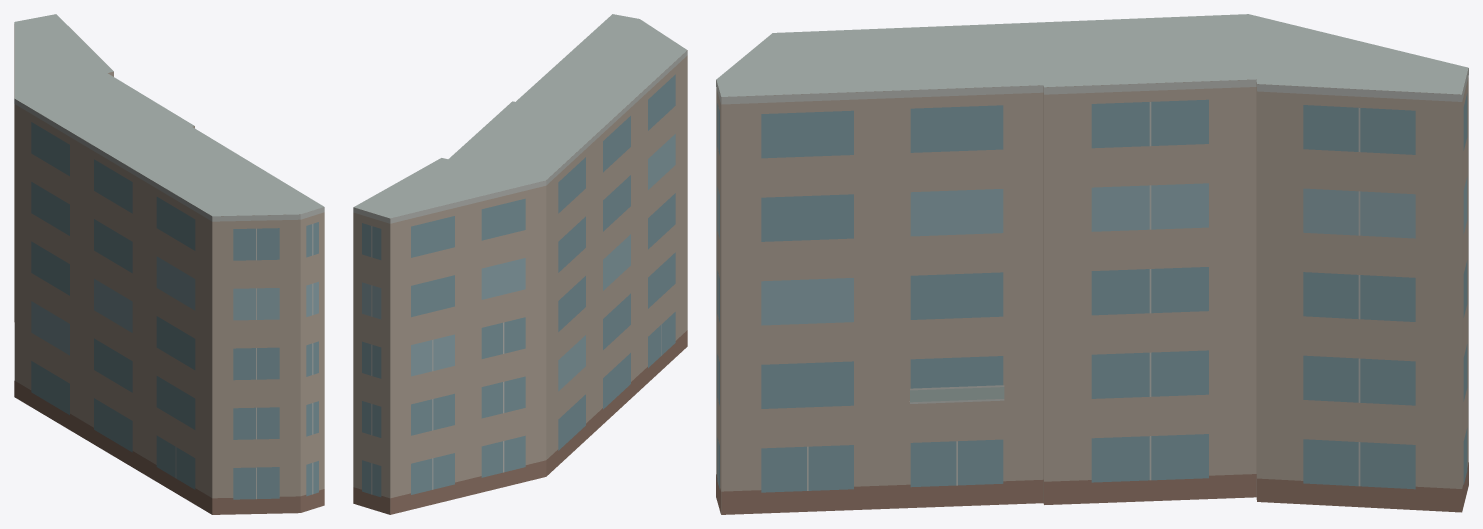
The model's file is survey-upis-32461496.glb.
3 renders of one model, left to right at view 1: azimuth 30°, elevation 25°; view 2: azimuth 150°, elevation 25°; view 3: azimuth 270°, elevation 25°, orthographic. The views are drawn at different scales.
Visible parts, largest first — view 1: survey-upis-32461496.tmp; view 2: survey-upis-32461496.tmp; view 3: survey-upis-32461496.tmp.
Boxes of the visible parts, x1,y1,x2,y2 form: survey-upis-32461496.tmp: [14, 14, 324, 514]; survey-upis-32461496.tmp: [353, 14, 687, 514]; survey-upis-32461496.tmp: [716, 14, 1468, 514].
Bounding box in the file's own units: 5.83 × 13.65 × 22.29.
